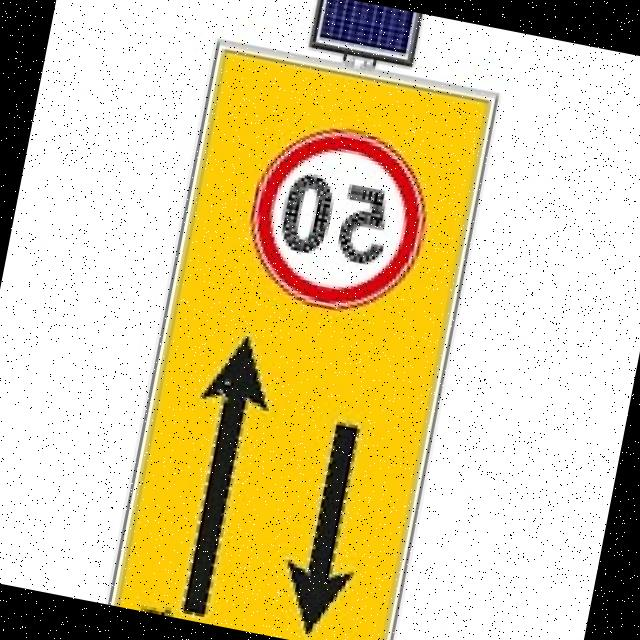speed_limit_50: (220, 101, 454, 332)
